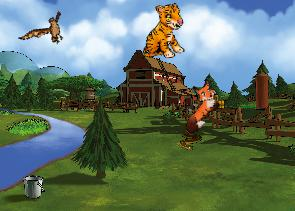eagle: (18, 1, 75, 60)
fox: (168, 75, 229, 136)
tiger: (136, 2, 189, 62)
